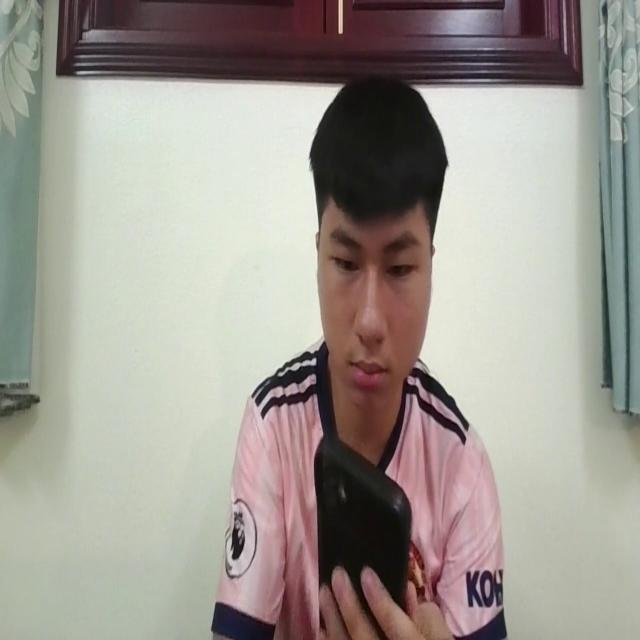phone: (314, 429, 414, 623)
student: (221, 70, 504, 640)
